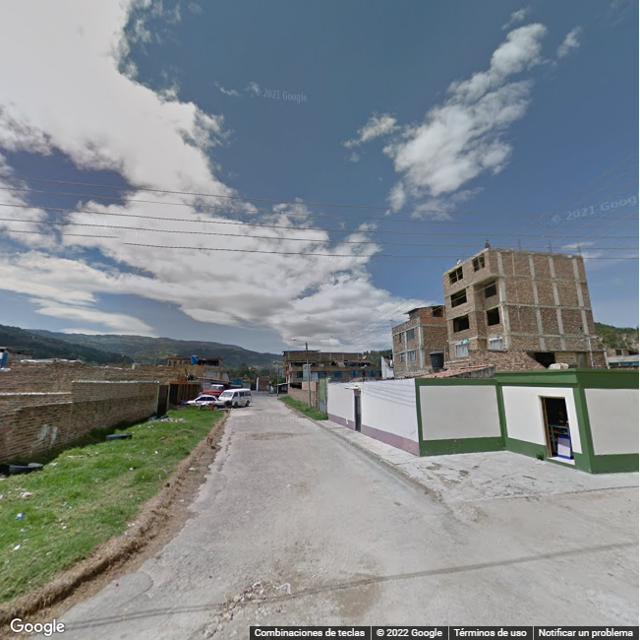D40: (196, 576, 284, 632)
